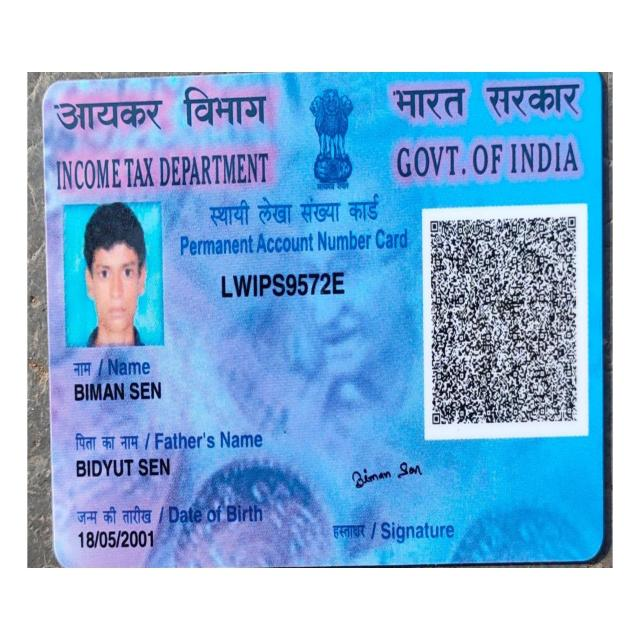pan_card: (49, 73, 595, 566)
